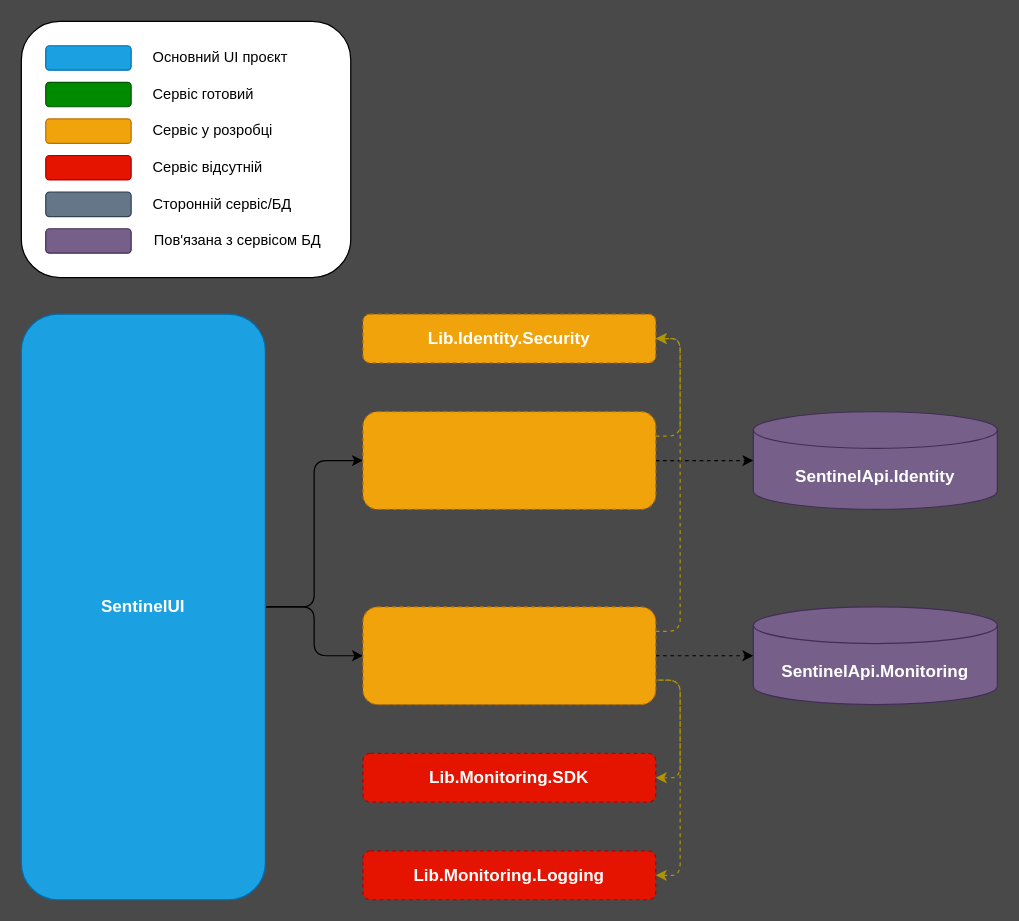
Some shapes in this 1019 by 921 pixel diagram are drawn without their labels. Each missing label, with the box of its shape:
Api.Identity: (362, 411, 656, 509)
Api.Monitoring: (362, 606, 656, 705)
